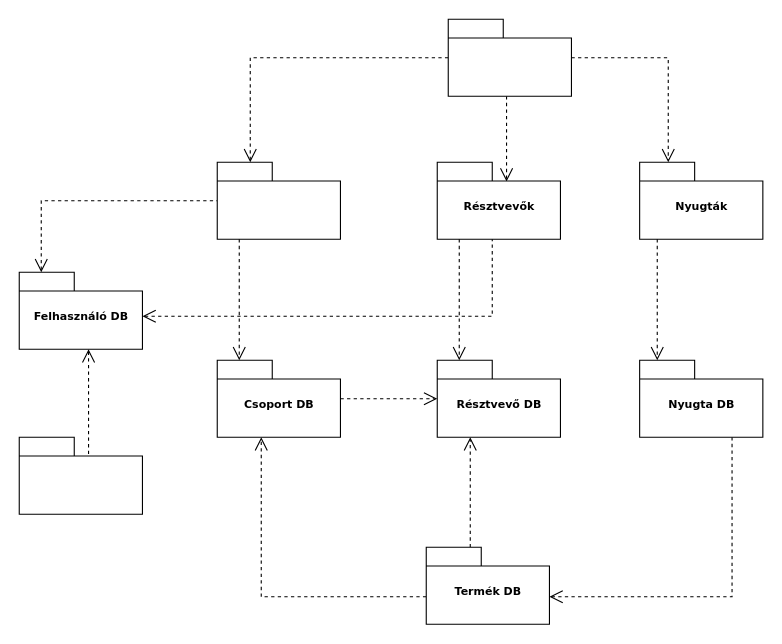
Some shapes in this 782 by 644 pixel diagram are drawn without their labels. Here are the shapes that lost their labels. From the top down, the centre of each, then its label:
At point 509,57: "Nyugtafelosztó UI".
At point 278,200: "Csoportok".
At point 80,475: "Fiók hitelesítés".
